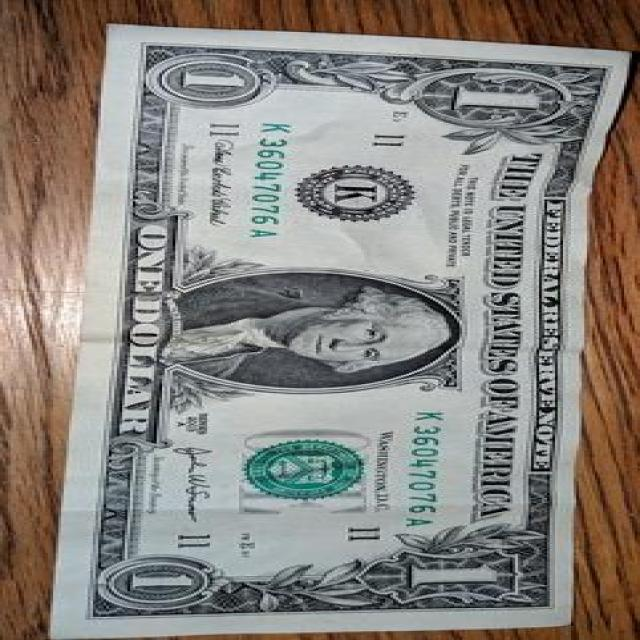1-Front: (43, 24, 632, 635)
